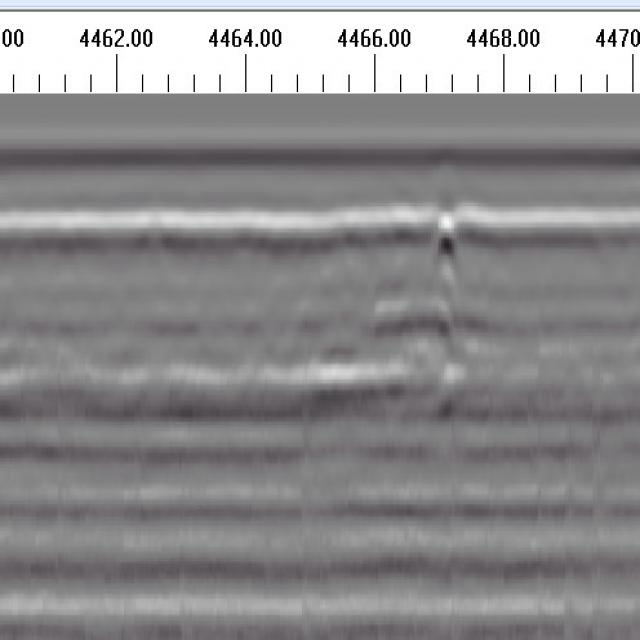crack: (433, 162, 455, 447)
